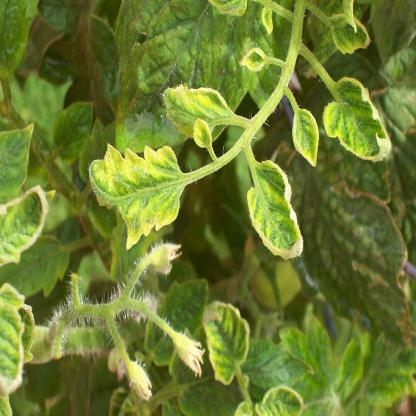tomato leaf yellow virus: (89, 146, 184, 246), (322, 61, 402, 164), (245, 158, 307, 271), (195, 289, 252, 389), (160, 82, 231, 134)
